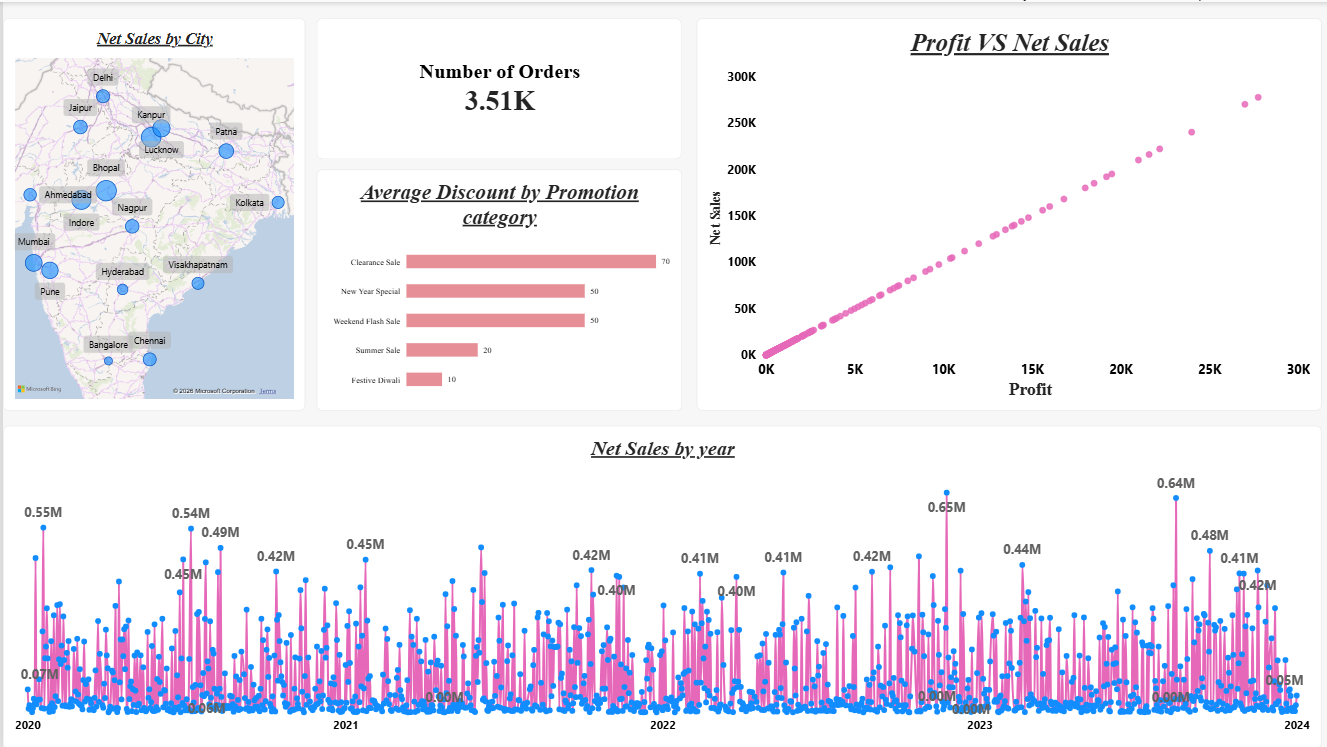

This screenshot's page, from the dashboard's own definition file:
{"tool":"powerbi","page":{"name":"Overview","canvas":[1920,1080],"ordinal":0},"visuals":[{"type":"lineChart","title":"Net Sales by year","fields":{"Category":["Fact Table.Date (dd/mm/yyyy).Variation.Date Hierarchy.Year"],"Y":["Sum(Fact Table.Net Sales  )"]},"box":[0,613.5,1909.2,466.9],"z":0},{"type":"scatterChart","title":"Profit VS Net Sales  ","fields":{"X":["Fact Table.Profit"],"Y":["Fact Table.Net Sales  "]},"box":[1004.4,23.5,904.8,568.2],"z":1},{"type":"barChart","title":"Average Discount by Promotion category","fields":{"Category":["Dim Promotion.Promotion Name"],"Y":["Avg(Fact Table.Discount)"]},"box":[454.2,242.5,528.4,349.3],"z":2},{"type":"map","title":"Net Sales by City","fields":{"Category":["Dim Customers.City"],"Size":["Sum(Fact Table.Net Sales  )"]},"box":[0,23.5,437.9,568.2],"z":3},{"type":"cardVisual","fields":{"Data":["Count(Fact Table.Order ID)"]},"box":[454.2,23.5,528.4,204.5],"z":4}]}

Visuals, with their boxes in screenshot pixels (x1, y1, x2, y2), scaled from the page's 1920x1080 canvas onto the 1327x747 screenshot:
"Net Sales by year" lineChart: box=[0, 424, 1320, 746]
"Profit VS Net Sales  " scatterChart: box=[694, 16, 1320, 409]
"Average Discount by Promotion category" barChart: box=[314, 168, 679, 409]
"Net Sales by City" map: box=[0, 16, 303, 409]
cardVisual - Count(Fact Table.Order ID): box=[314, 16, 679, 158]
